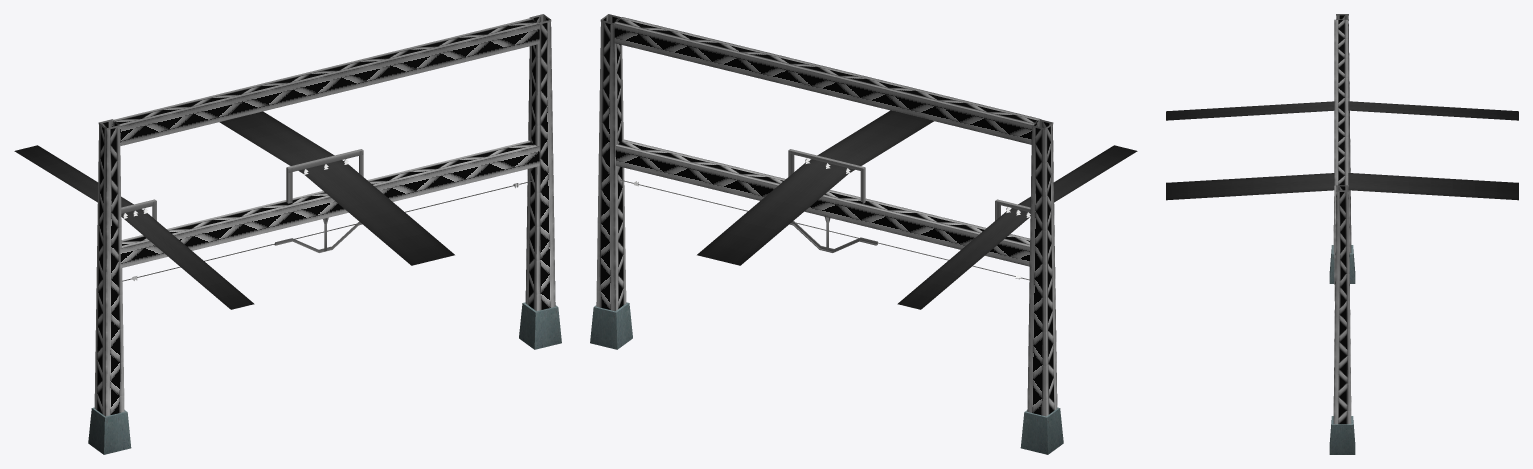
The model's file is KASENCHU_ST.glb.
3 renders of one model, left to right at view 1: azimuth 30°, elevation 25°; view 2: azimuth 150°, elevation 25°; view 3: azimuth 270°, elevation 25°, orthographic. The views are drawn at different scales.
Parts seen in each view (by area): view 1: OBJ; view 2: OBJ; view 3: OBJ.
Boxes of the visible parts, left/top/right/bottom form: OBJ: left=14, top=14, right=561, bottom=454; OBJ: left=590, top=14, right=1137, bottom=454; OBJ: left=1166, top=14, right=1518, bottom=454.
Bounding box in the file's own units: 48.26 × 32.44 × 39.61.
Materials: 5 (5 with a texture image).
